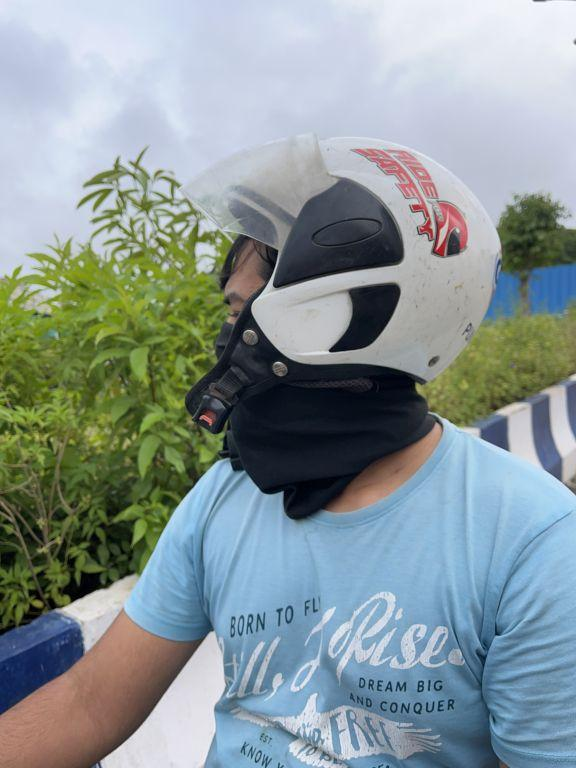helmet: (177, 124, 506, 470)
